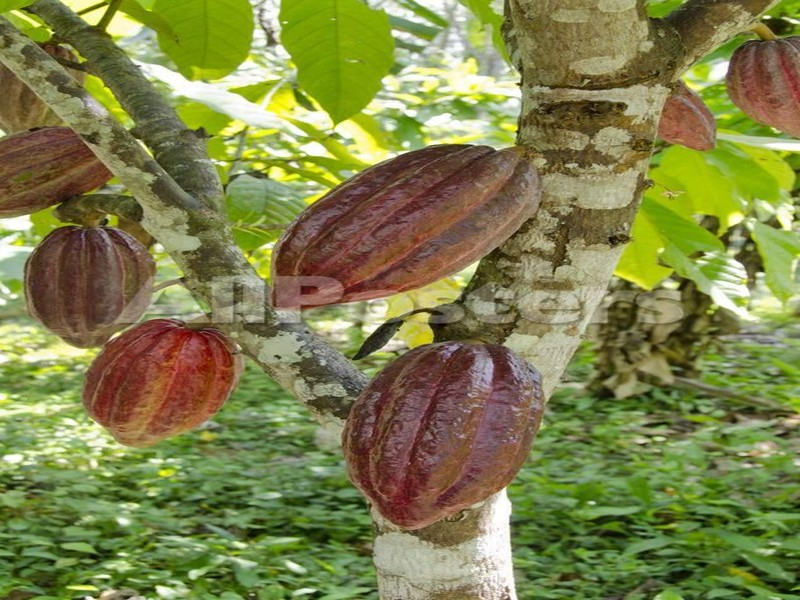Cacaopod: (268, 142, 544, 307), (341, 336, 547, 535), (81, 319, 245, 453), (23, 223, 157, 352)
